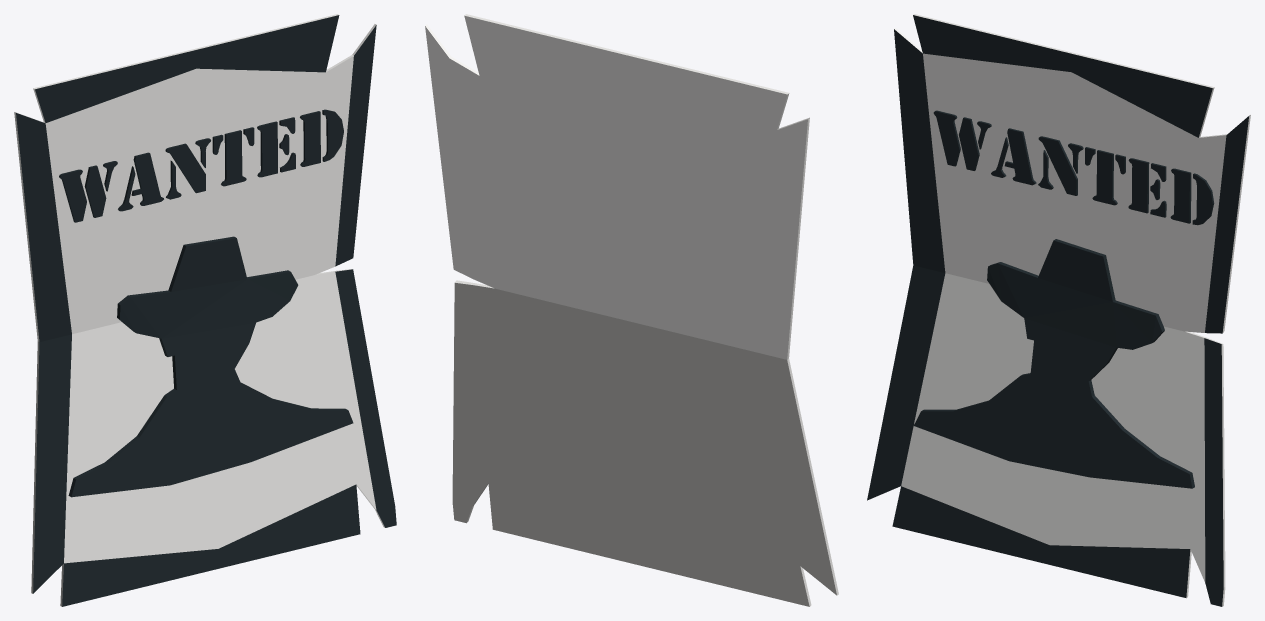
The model's file is Wanted_poster.fbx.
3 views of the same model, side by side, from view 1: azimuth 30°, elevation 25°; view 2: azimuth 150°, elevation 25°; view 3: azimuth 330°, elevation 25° (orthographic). The views are drawn at different scales.
Parts seen in each view (by area): view 1: Wanted_poster; view 2: Wanted_poster; view 3: Wanted_poster.
Part boxes in pixels (box(x1,y1,x2,y2)): Wanted_poster: box(14, 14, 396, 606); Wanted_poster: box(425, 14, 838, 606); Wanted_poster: box(867, 14, 1250, 606).
Size of the model in its own units: 34.97 by 4.27 by 45.78.
